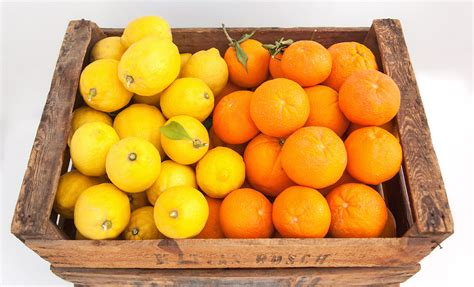orange: (279, 124, 350, 188), (338, 68, 403, 126), (250, 77, 307, 135), (273, 182, 333, 237), (328, 183, 388, 237), (220, 185, 274, 239), (222, 35, 270, 88), (281, 38, 333, 85)
